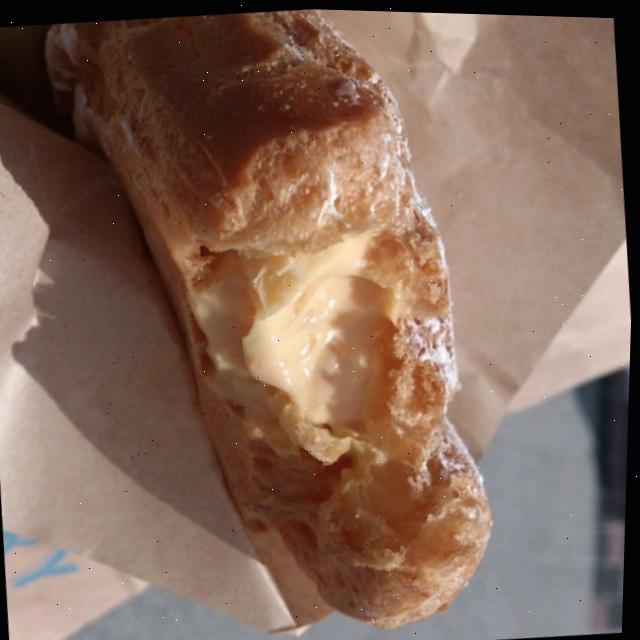炸货点心: (22, 1, 546, 640)
蛋糕甜品: (22, 1, 546, 640)
